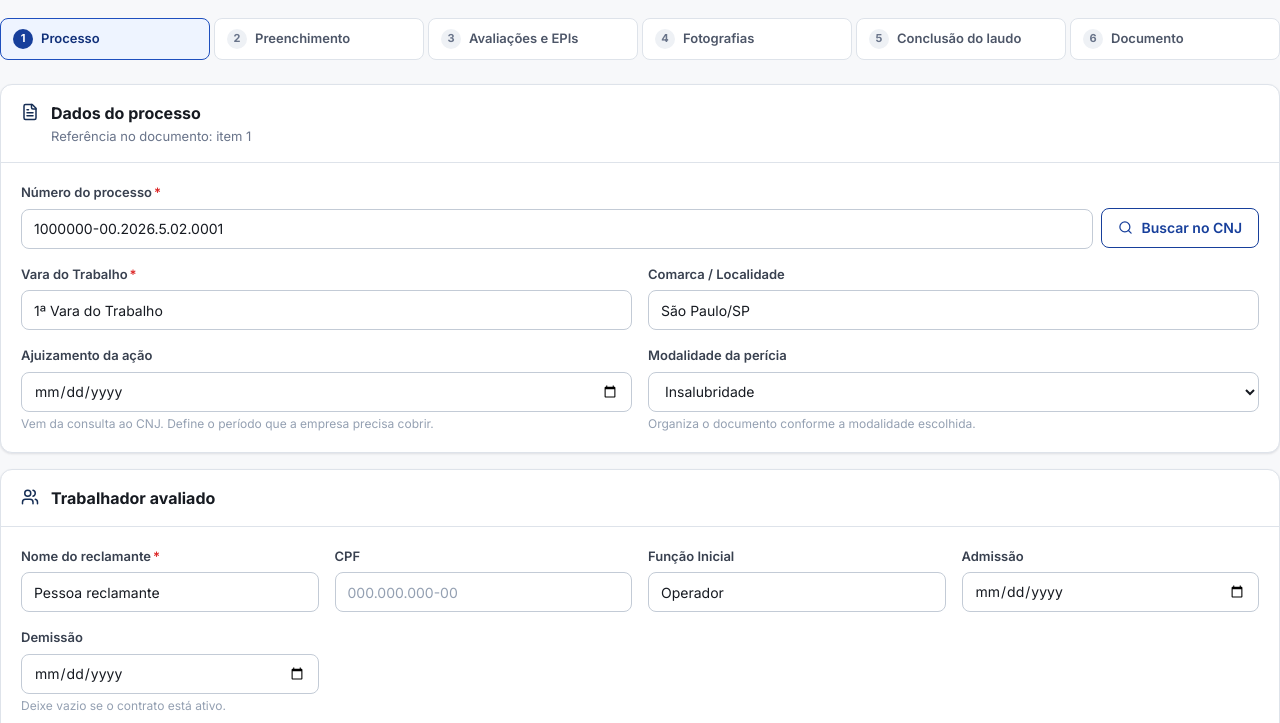
Test: PericiaEditor — campo CAS do agente › mantém travado o CAS que a substância do Anexo 11 já traz
Step 1. Click the button "3 Avaliações e EPIs" → x=533, y=38, box [428,18,638,60]
(page scrolled)
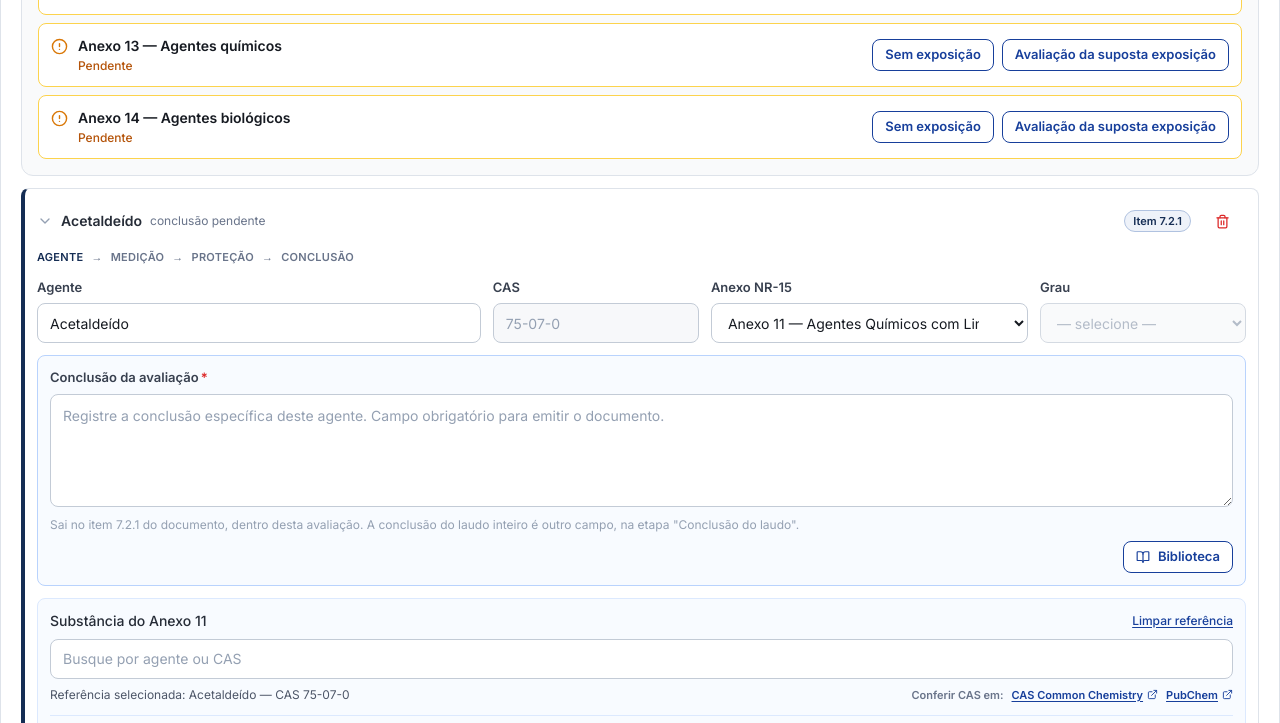
Expected: the field labelled "CAS" is disabled, [493,303,699,343]
Expected: the field labelled "CAS" holds "75-07-0", [493,303,699,343]
